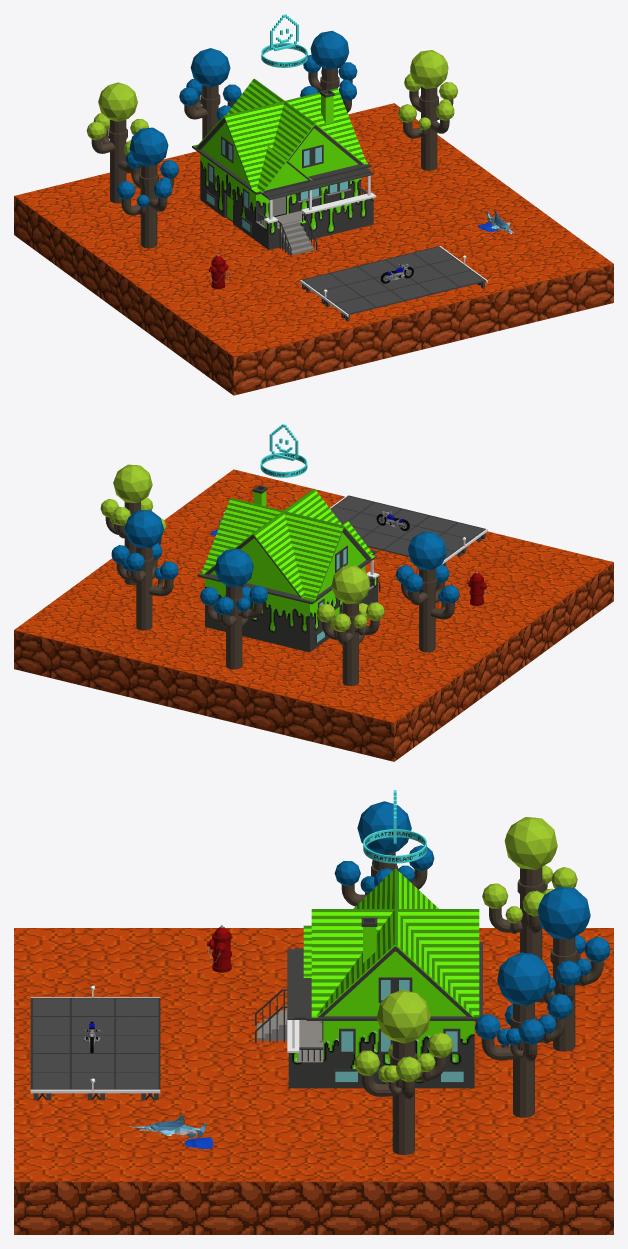
3 views of the same model, one above another, from view 1: azimuth 30°, elevation 25°; view 2: azimuth 150°, elevation 25°; view 3: azimuth 270°, elevation 25° (orthographic). The views are drawn at different scales.
Parts seen in each view (by area): view 1: Cube.001, Cube.754, TYPE_PREMIUM; view 2: Cube.001, Cube.754, TYPE_PREMIUM, OBJRANDOM_FIRE_HYDRANT; view 3: Cube.001, Cube.754, TYPE_PREMIUM, ANIMAL_PEZ_ESPADA, OBJRANDOM_FIRE_HYDRANT.
Boxes of the visible parts, x1,y1,x2,y2 form: Cube.001: (14, 30, 613, 395); Cube.754: (192, 78, 376, 256); TYPE_PREMIUM: (261, 14, 307, 67); Cube.001: (14, 464, 613, 761); Cube.754: (197, 485, 380, 652); TYPE_PREMIUM: (260, 424, 307, 477); OBJRANDOM_FIRE_HYDRANT: (467, 571, 487, 605); Cube.001: (14, 801, 613, 1234); Cube.754: (255, 869, 482, 1088); TYPE_PREMIUM: (363, 790, 426, 863); ANIMAL_PEZ_ESPADA: (129, 1115, 213, 1148); OBJRANDOM_FIRE_HYDRANT: (207, 925, 231, 972).
Size of the model in its own units: 4000 by 2413 by 4000.
33 materials, 6 textured.
